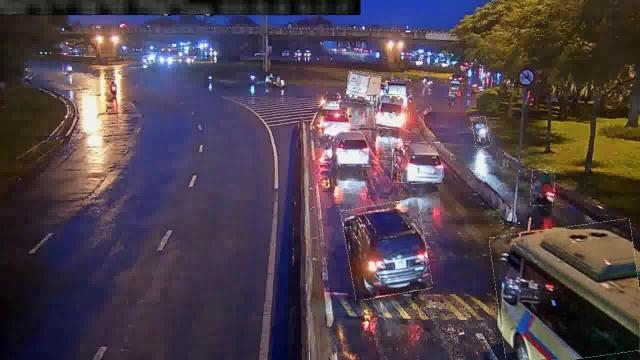Bike: (531, 170, 555, 207), (473, 116, 489, 148)
Bus: (493, 223, 639, 359), (375, 96, 407, 128)
Car: (344, 202, 430, 298), (392, 142, 443, 184), (332, 132, 371, 166)
Truck: (346, 72, 386, 104)
